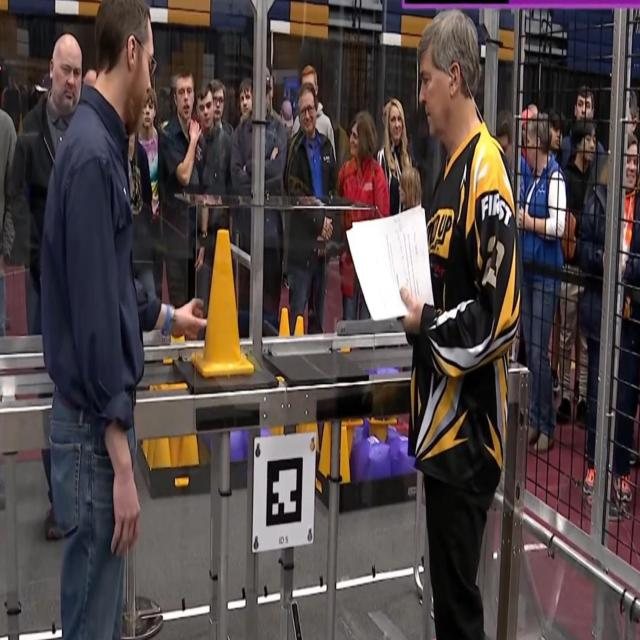frc_cone: (193, 228, 254, 374), (336, 426, 352, 482), (152, 434, 172, 469), (180, 432, 200, 467), (318, 424, 331, 474), (276, 304, 292, 336), (169, 433, 182, 468), (144, 436, 157, 466), (295, 311, 306, 337)
frc_cube: (354, 434, 390, 476), (388, 434, 418, 472)
